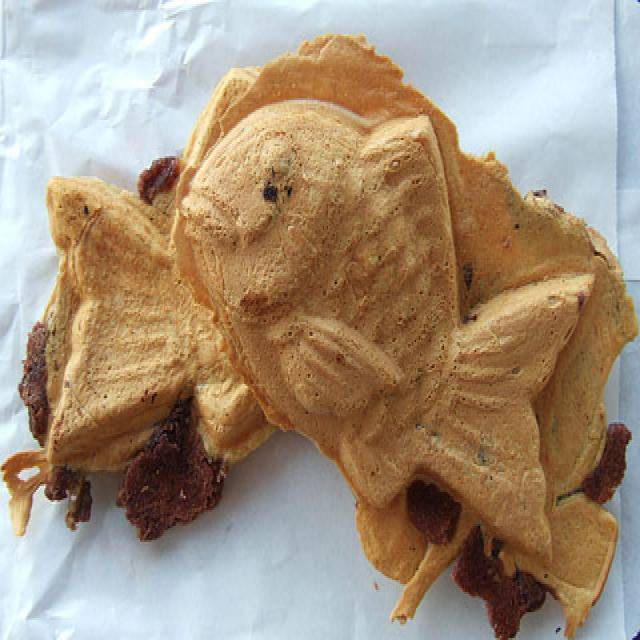熟制海鲜: (28, 30, 640, 640)
